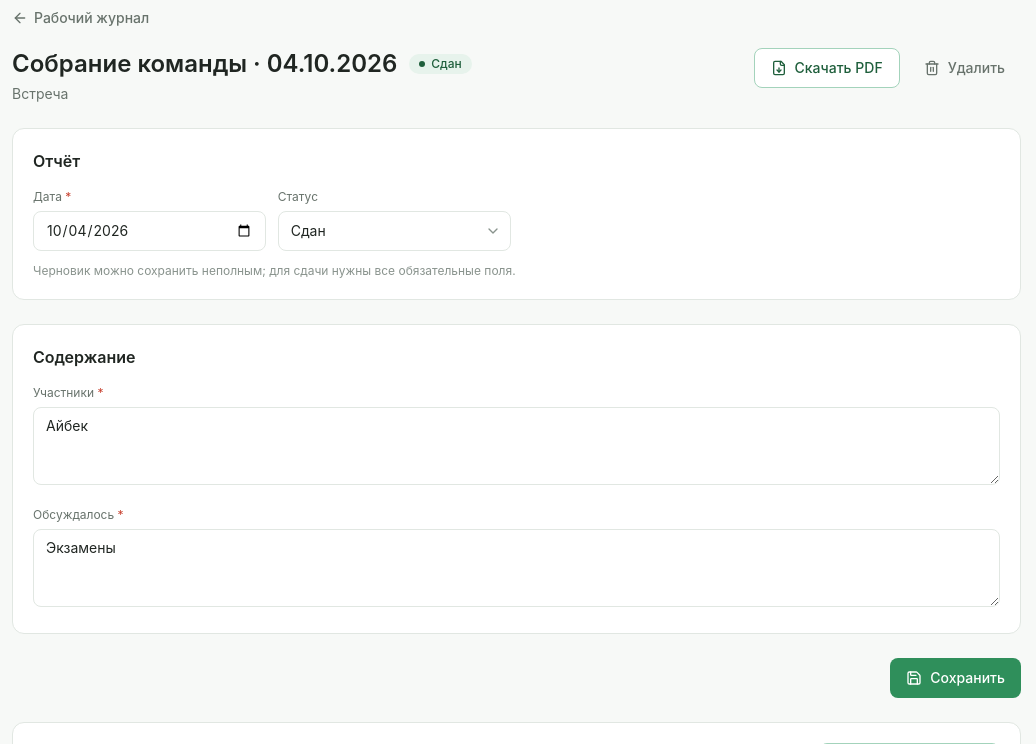
Scenario: Рабочий журнал › shows the API error when the PDF cannot be built
The width and height of the screenshot is (1036, 744).
Click the button "Скачать PDF" at (827, 68), box [754,48,900,88]
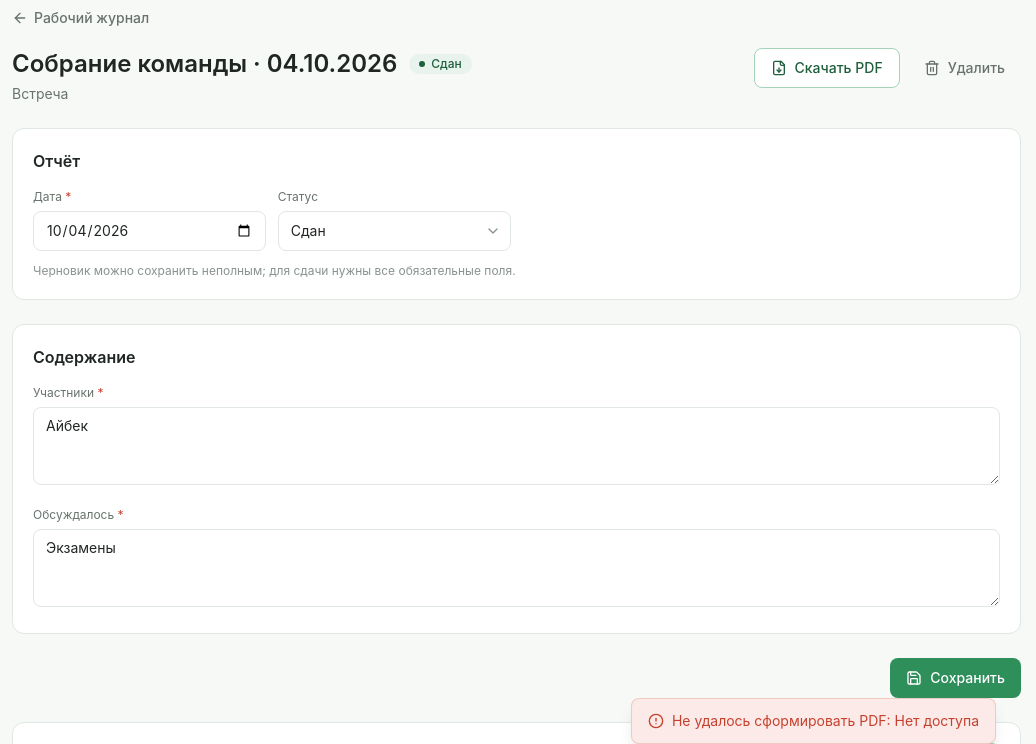
Now the text "Не удалось сформировать PDF: Нет доступа" is shown, box [672,711,979,731]
